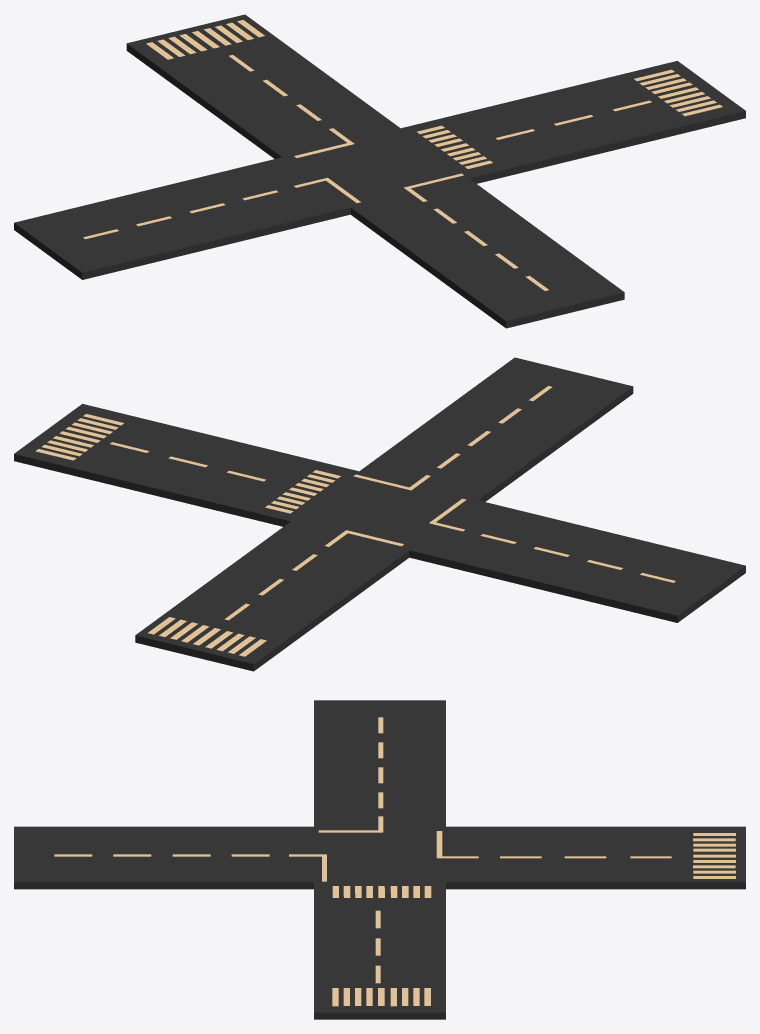
File: road.glb
The picture shows the model from 3 angles, top to bottom: view 1: azimuth 30°, elevation 25°; view 2: azimuth 150°, elevation 25°; view 3: azimuth 270°, elevation 25°; orthographic projection. The views are drawn at different scales.
Parts seen in each view (by area): view 1: ROAD; view 2: ROAD; view 3: ROAD.
Part boxes in pixels (<box>): ROAD: <box>14,14,745,328</box>; ROAD: <box>14,357,745,671</box>; ROAD: <box>14,700,745,1019</box>.
Size of the model in its own units: 16.77 by 0.1807 by 16.61.
